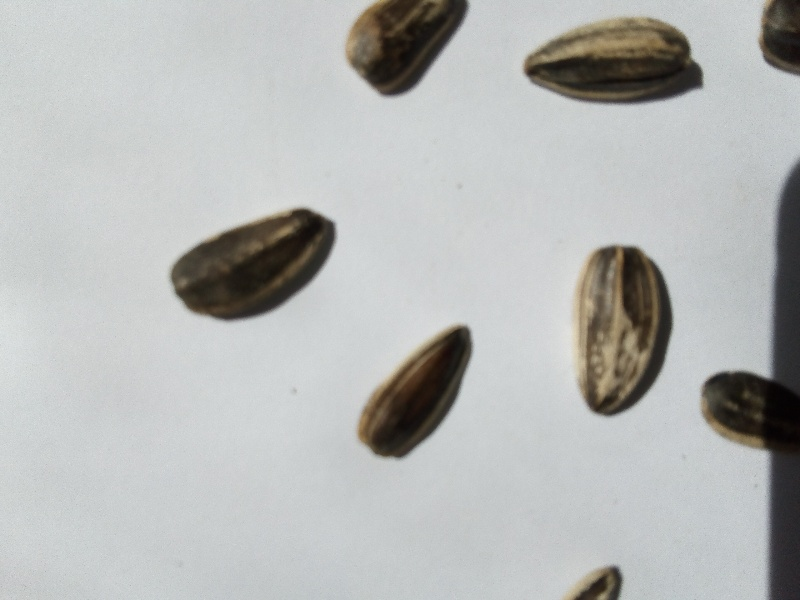girasol: (154, 200, 358, 332), (338, 311, 485, 472), (567, 230, 681, 430), (523, 12, 715, 114)
